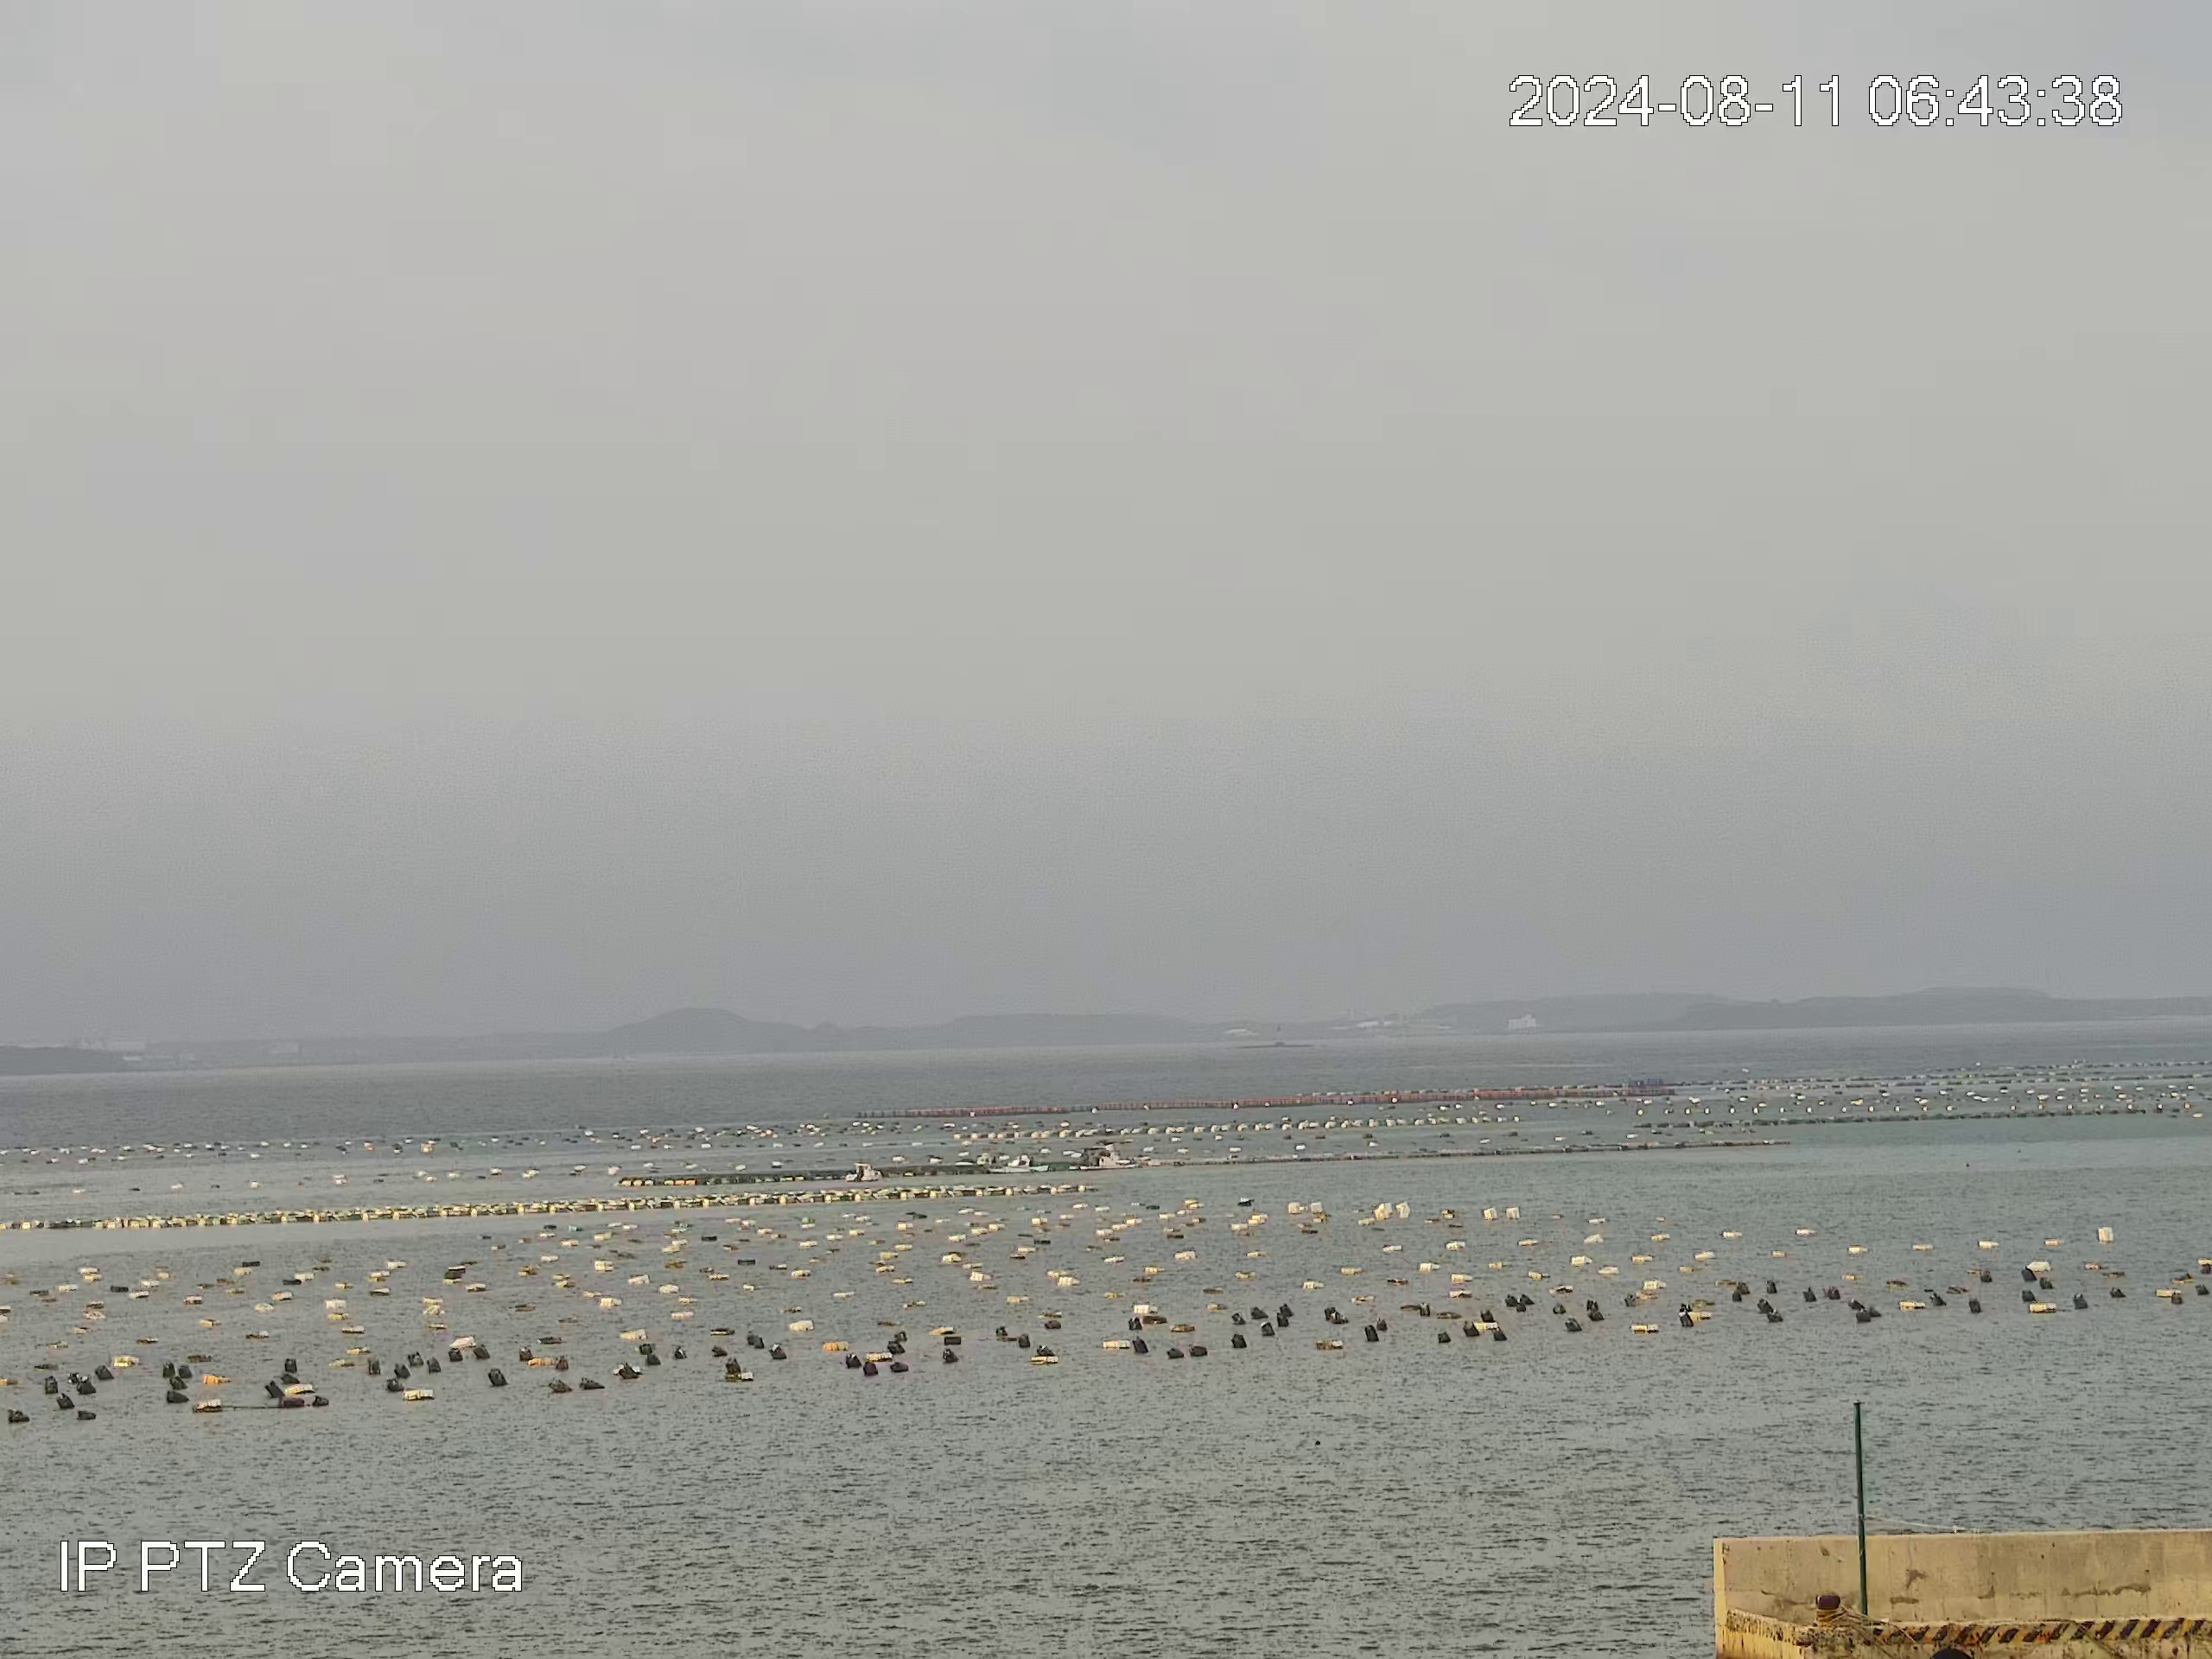boat: (984, 1154, 1051, 1174), (843, 1161, 884, 1184), (1067, 1153, 1117, 1171)
